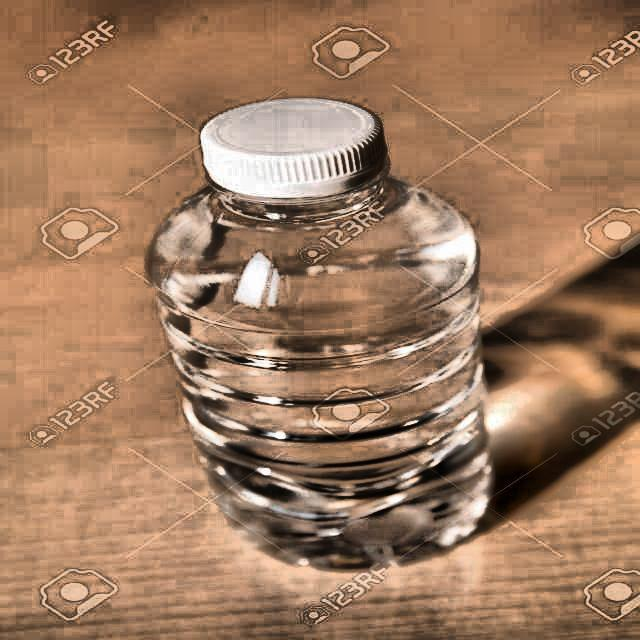plastic bottle: (148, 98, 494, 568)
